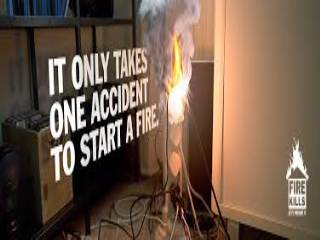fire: (165, 39, 190, 120)
smoke: (134, 2, 213, 46)
